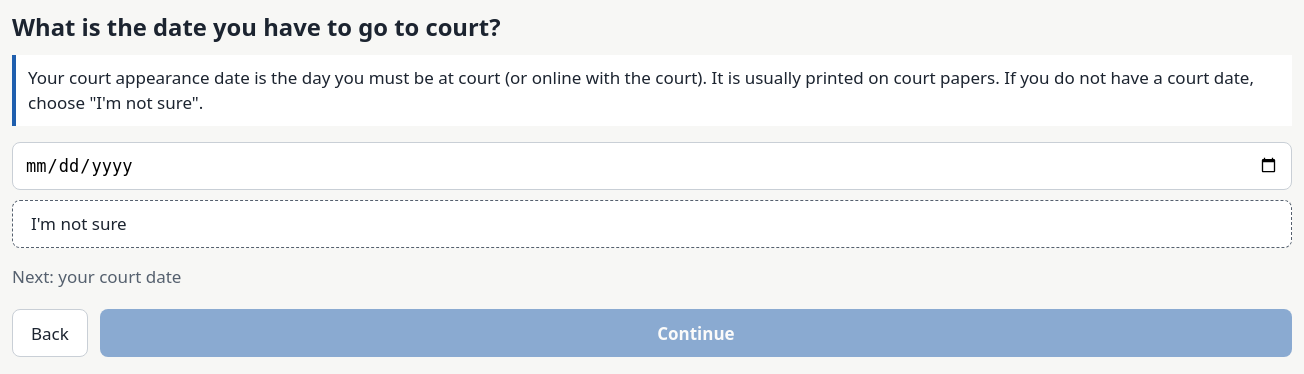
Test: QuestionScreen › US1-AS6 / FR-009 choosing 'I'm not sure' stores unsure: true, value: null and enables Continue
Later steps or results of the test are not shown.
Expected: the button "Continue" is disabled, [100,309,1292,357]
Click the button with test id "unsure": (79, 224) [12,200,1292,248]
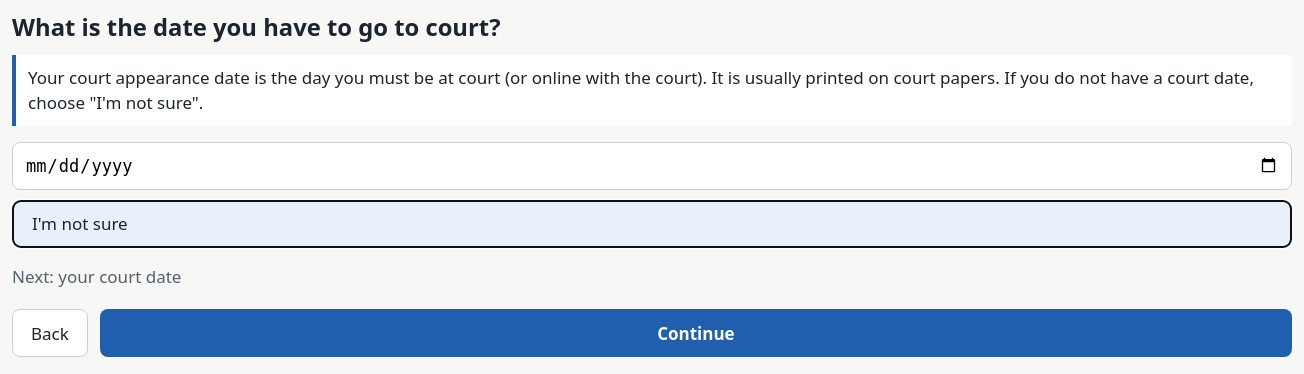
Expected: the button "Continue" is enabled, [100,309,1292,357]
